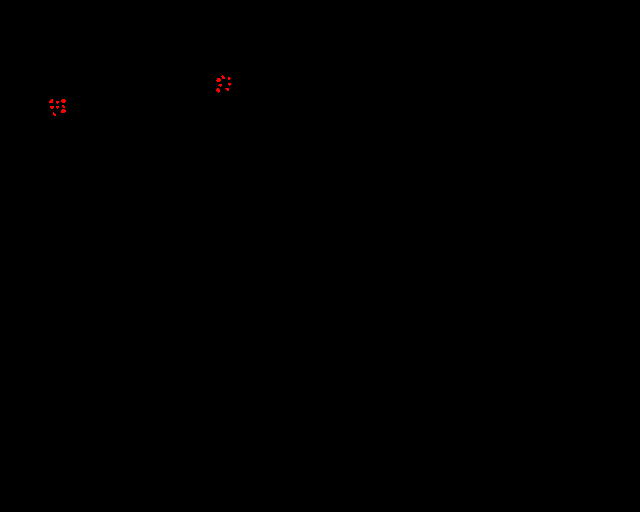Target: (216, 78, 221, 82), (216, 88, 220, 93), (61, 99, 66, 103), (61, 109, 66, 113), (221, 75, 225, 79), (49, 99, 53, 103), (218, 84, 222, 87), (225, 88, 229, 91), (50, 106, 54, 109), (53, 112, 56, 116), (228, 77, 231, 80), (228, 83, 231, 86), (56, 101, 59, 104), (62, 105, 65, 108), (56, 106, 59, 109)
